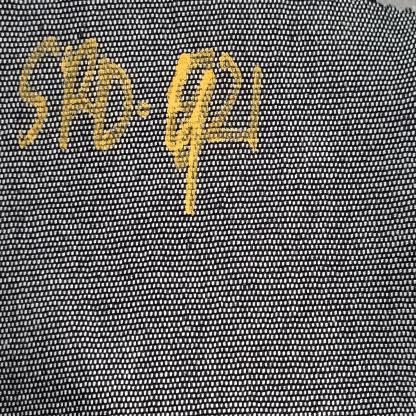spot: (19, 28, 264, 222)
